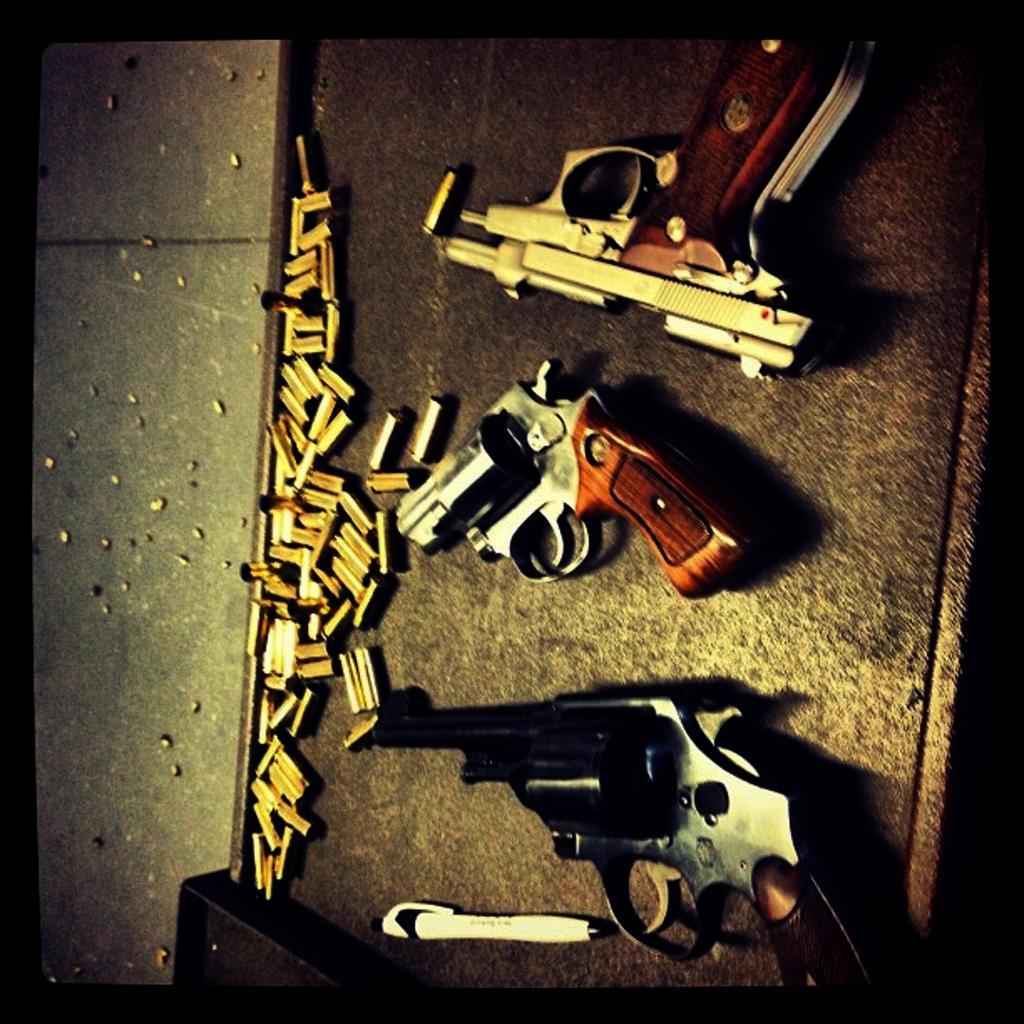gun: (364, 675, 898, 983), (432, 37, 902, 383), (390, 356, 790, 600)
